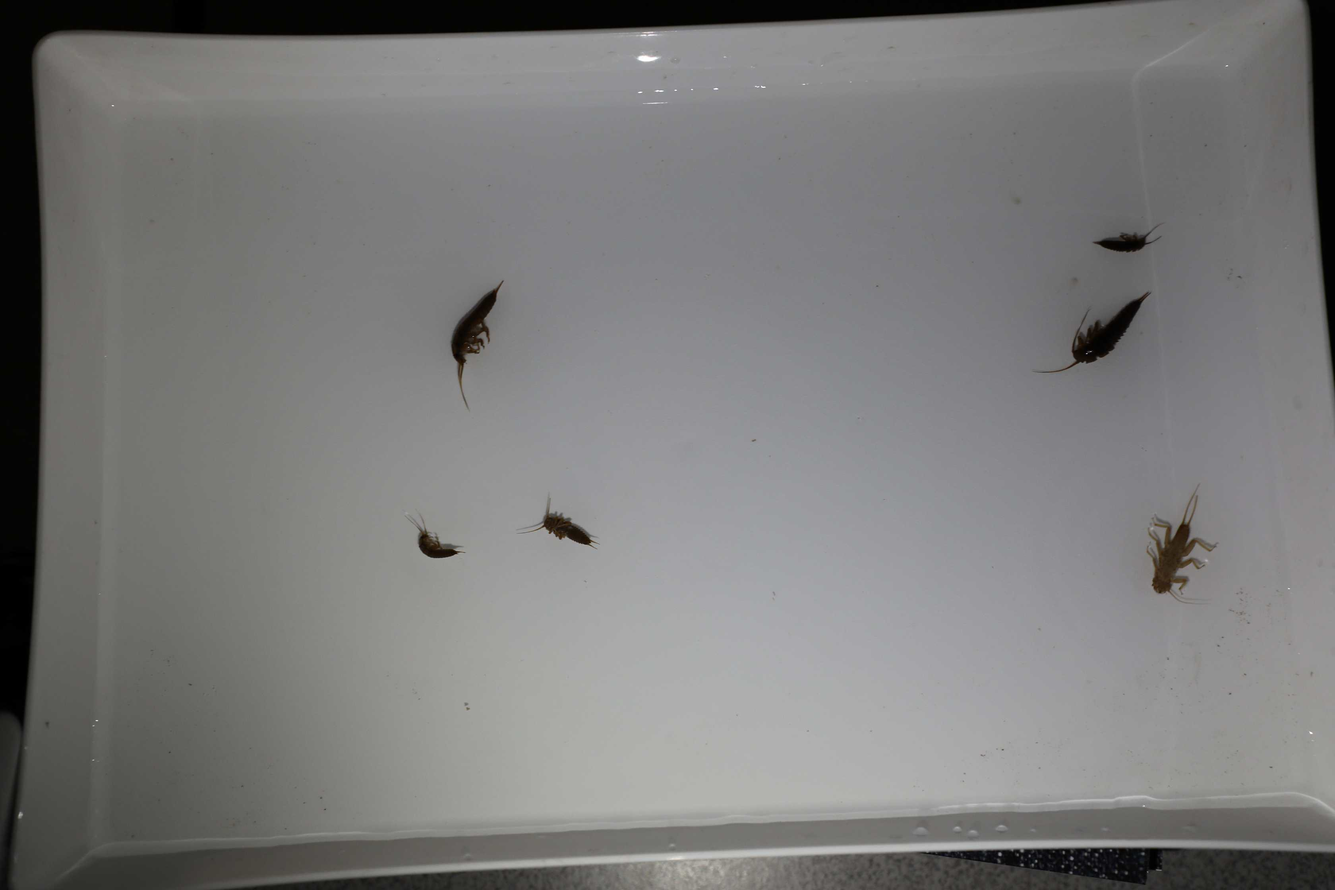Stonefly: (1034, 292, 1153, 380), (1146, 485, 1217, 599), (447, 282, 505, 421), (518, 494, 601, 552), (1086, 220, 1167, 258), (405, 518, 459, 561)
